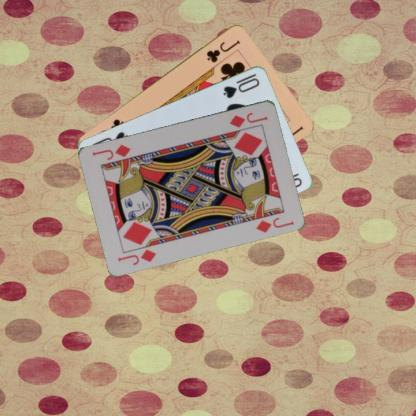10s: (220, 70, 261, 100)
Jc: (204, 37, 242, 64)
Jd: (227, 109, 269, 129), (116, 246, 158, 266)
